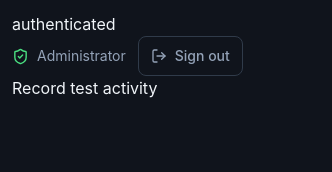
Administrator controls › revokes the current session when signing out
This screenshot has width=332, height=172.
Click the button "Sign out": [190, 56] box x1=138 y1=36 x2=243 y2=76
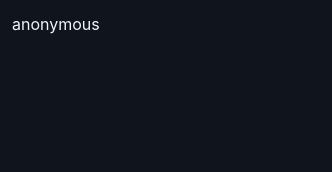
Result: the text with test id "auth-state" reads "anonymous" at x1=12 y1=14 x2=100 y2=34
Result: the button "Sign out" is gone
